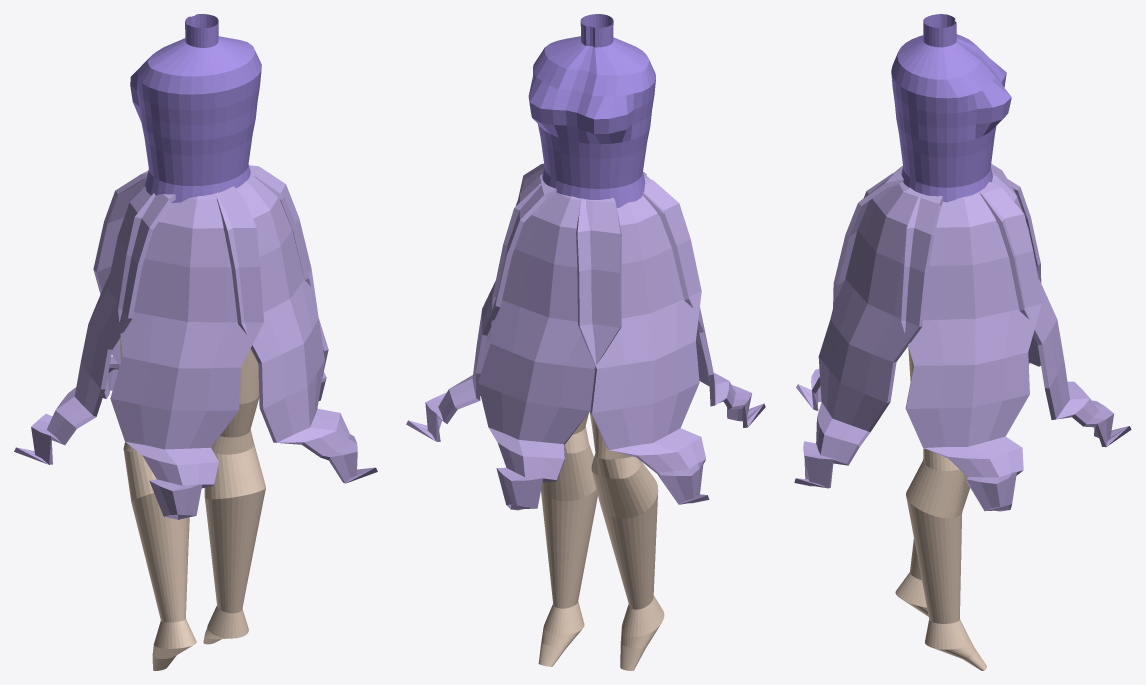
File: fairy.fbx
3 renders of one model, left to right at view 1: azimuth 30°, elevation 25°; view 2: azimuth 150°, elevation 25°; view 3: azimuth 270°, elevation 25°, orthographic.
Visible parts, largest first — view 1: Cylinder; view 2: Cylinder; view 3: Cylinder.
Boxes of the visible parts, x1,y1,x2,y2 form: Cylinder: (14, 14, 377, 670); Cylinder: (406, 14, 765, 670); Cylinder: (794, 14, 1131, 670).
Bounding box in the file's own units: 353 × 705 × 341.
